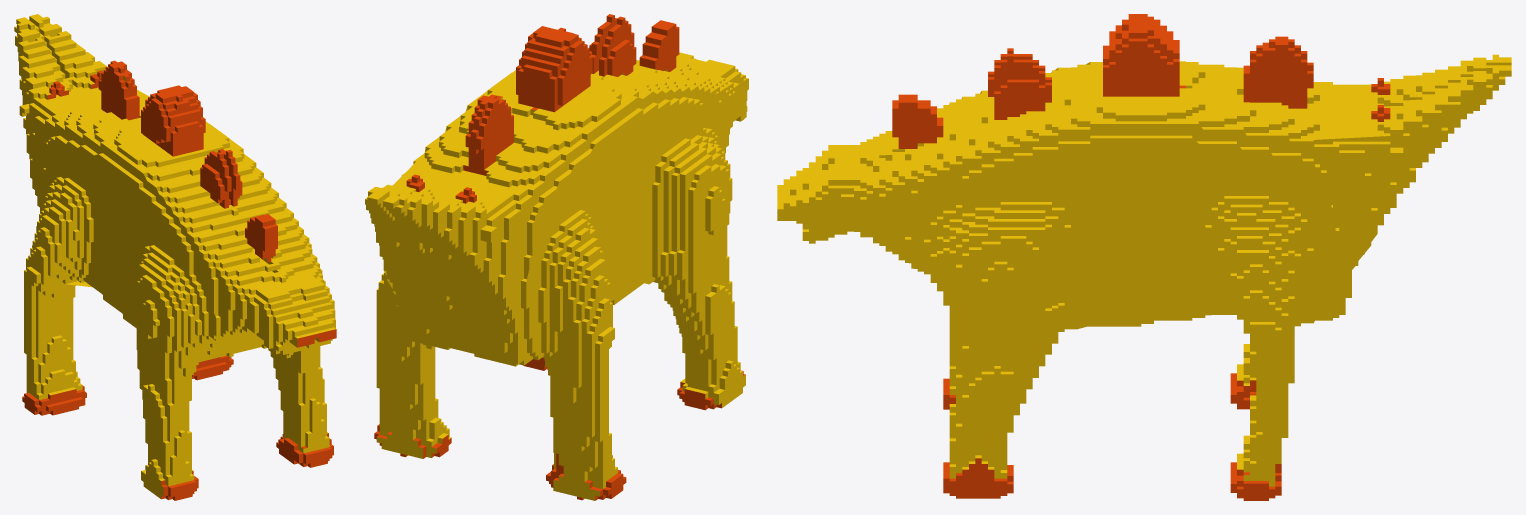
Rendered from DinosProject_Dino_bAKCuP.fbx.
3 renders of one model, left to right at view 1: azimuth 30°, elevation 25°; view 2: azimuth 150°, elevation 25°; view 3: azimuth 270°, elevation 25°, orthographic. The views are drawn at different scales.
Parts seen in each view (by area): view 1: Estegosaurus.001; view 2: Estegosaurus.001; view 3: Estegosaurus.001.
Part boxes in pixels (x1,y1,x2,y2): Estegosaurus.001: (14,14,336,500); Estegosaurus.001: (365,14,748,500); Estegosaurus.001: (777,14,1511,500).
Size of the model in its own units: 372 by 612 by 950.
